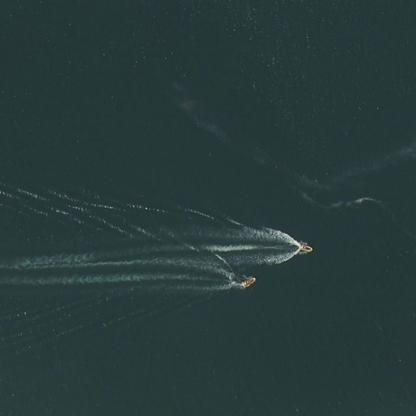ship: (234, 271, 262, 291), (290, 238, 317, 258)
